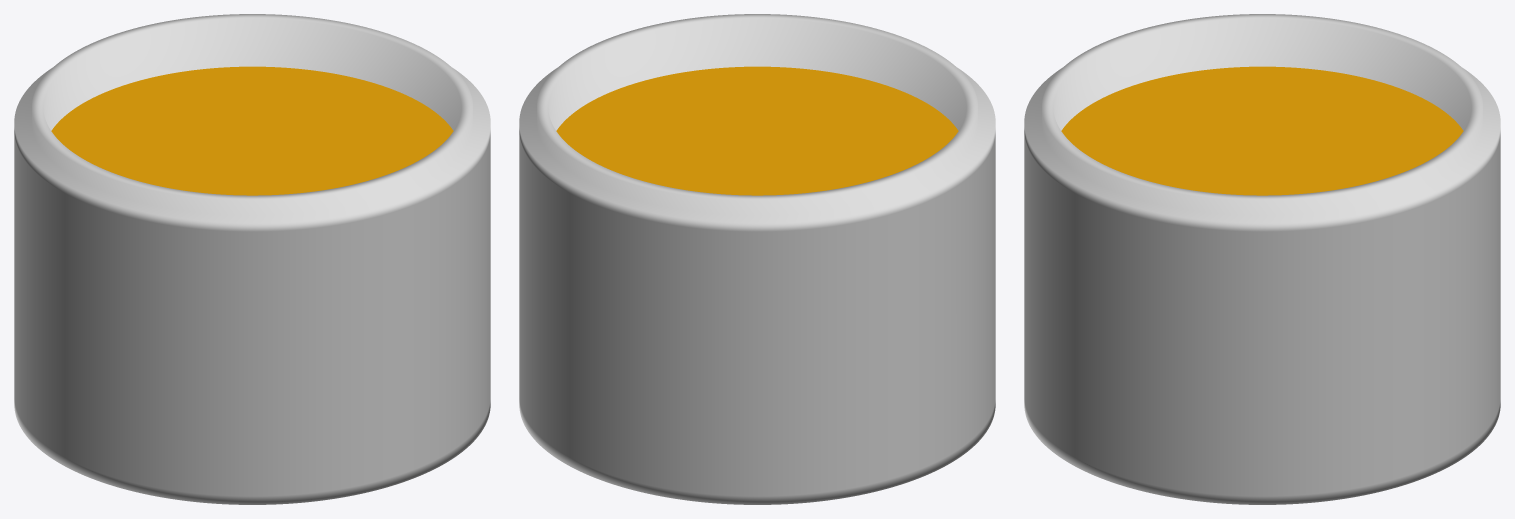
Rendered from rosin.fbx.
3 views of the same model, side by side, from view 1: azimuth 30°, elevation 25°; view 2: azimuth 150°, elevation 25°; view 3: azimuth 270°, elevation 25° (orthographic).
Visible parts, largest first — view 1: jar, rosin; view 2: jar, rosin; view 3: jar, rosin.
Boxes of the visible parts, x1,y1,x2,y2 form: jar: [14, 14, 490, 504]; rosin: [51, 66, 453, 195]; jar: [519, 14, 995, 504]; rosin: [556, 66, 958, 195]; jar: [1024, 14, 1500, 504]; rosin: [1061, 66, 1463, 195].
Size of the model in its own units: 6.3 by 4.46 by 6.3.
